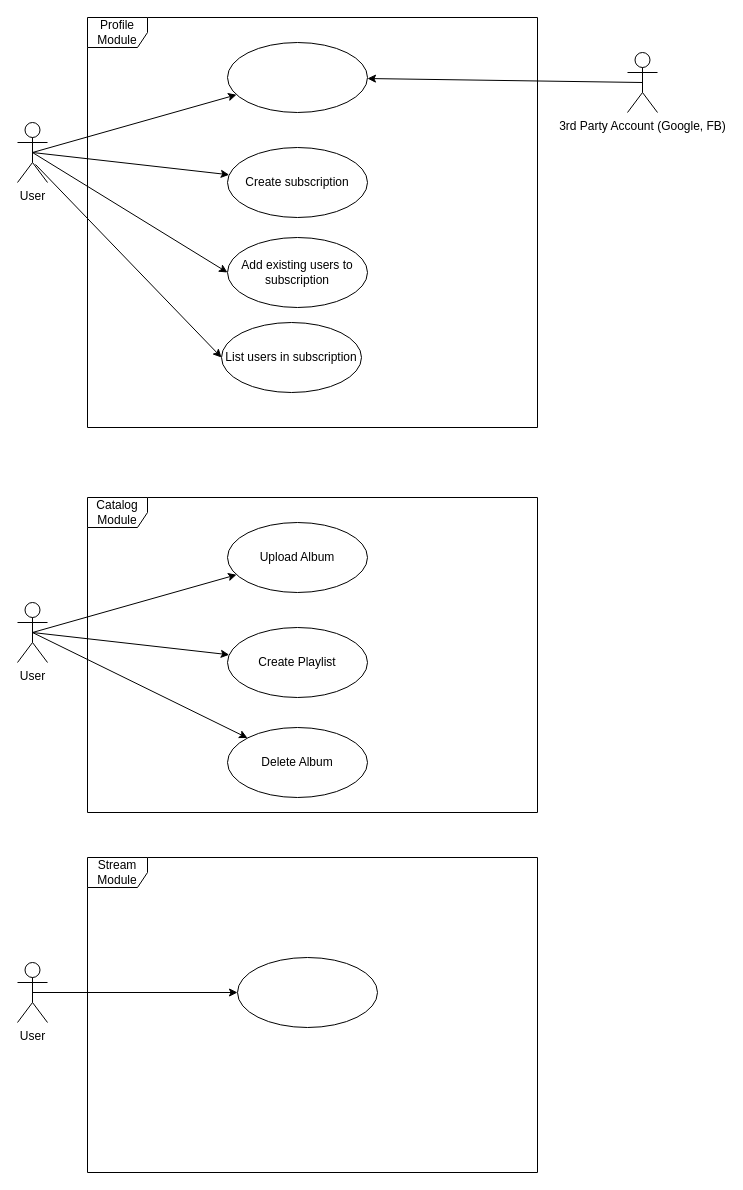
Some shapes in this 743 by 1190 pixel diagram are drawn without their labels. The centre of each missing label's shape, as x and y in pixels:
"Create User" belongs at point (297, 77).
"Listen Tracks" belongs at point (307, 992).
